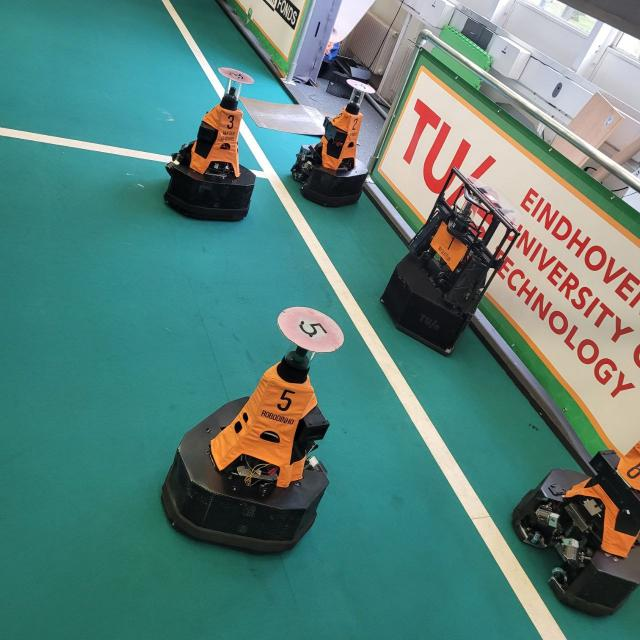robot: (150, 280, 349, 582), (162, 50, 260, 228), (284, 67, 388, 219)
